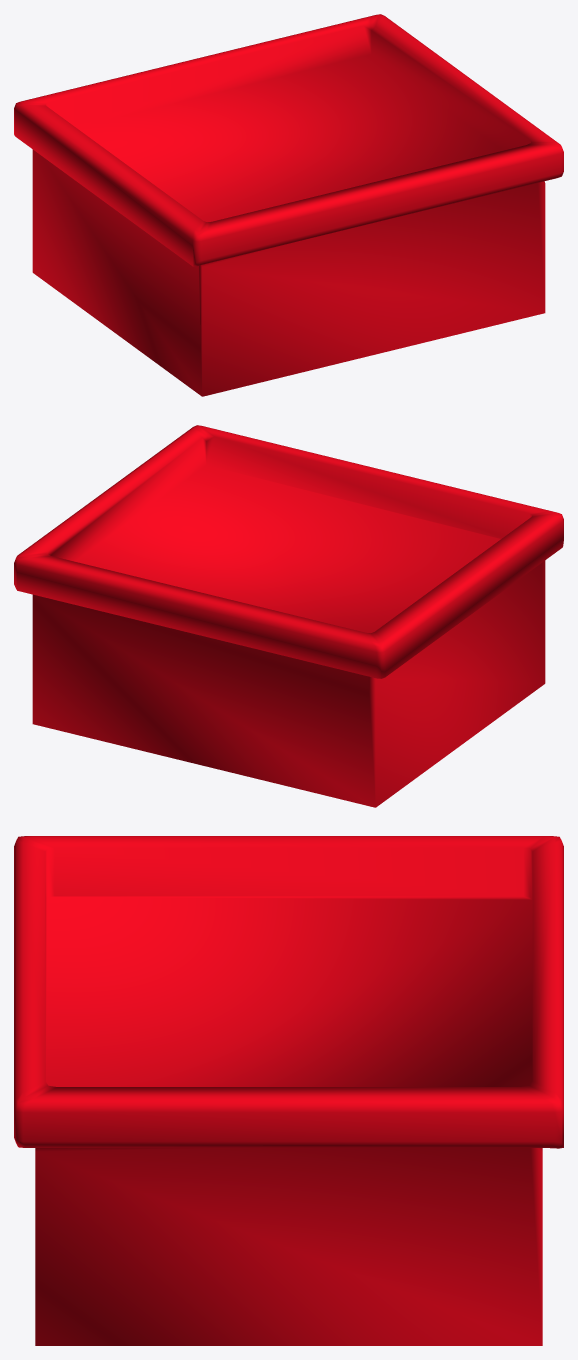
The model's file is BAcRef.fbx.
The picture shows the model from 3 angles, top to bottom: view 1: azimuth 30°, elevation 25°; view 2: azimuth 150°, elevation 25°; view 3: azimuth 270°, elevation 25°; orthographic projection. The views are drawn at different scales.
Parts seen in each view (by area): view 1: SM_BAC_Objet; view 2: SM_BAC_Objet; view 3: SM_BAC_Objet.
Boxes of the visible parts, x1=… form: SM_BAC_Objet: x1=14, y1=14, x2=563, y2=396; SM_BAC_Objet: x1=14, y1=425, x2=563, y2=807; SM_BAC_Objet: x1=14, y1=836, x2=563, y2=1345.
Size of the model in its own units: 48.49 by 21.22 by 41.75.
